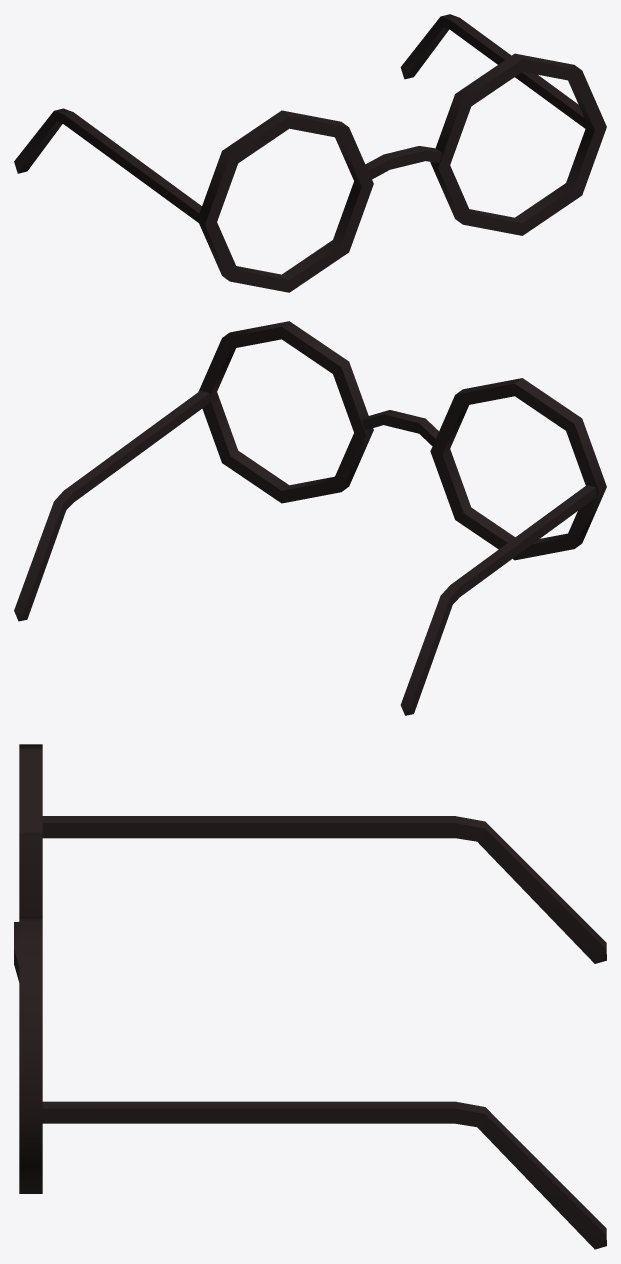
Rendered from 57_prop_eyeglasses.FBX.
3 views of the same model, one above another, from view 1: azimuth 30°, elevation 25°; view 2: azimuth 150°, elevation 25°; view 3: azimuth 270°, elevation 25° (orthographic). The views are drawn at different scales.
Visible parts, largest first — view 1: prop_eyeglasses; view 2: prop_eyeglasses; view 3: prop_eyeglasses.
Part boxes in pixels (left/top/right/bottom): prop_eyeglasses: left=14, top=14, right=606, bottom=292; prop_eyeglasses: left=14, top=321, right=606, bottom=715; prop_eyeglasses: left=14, top=744, right=606, bottom=1249.
Bounding box in the file's own units: 14.1 × 5.93 × 11.9.
